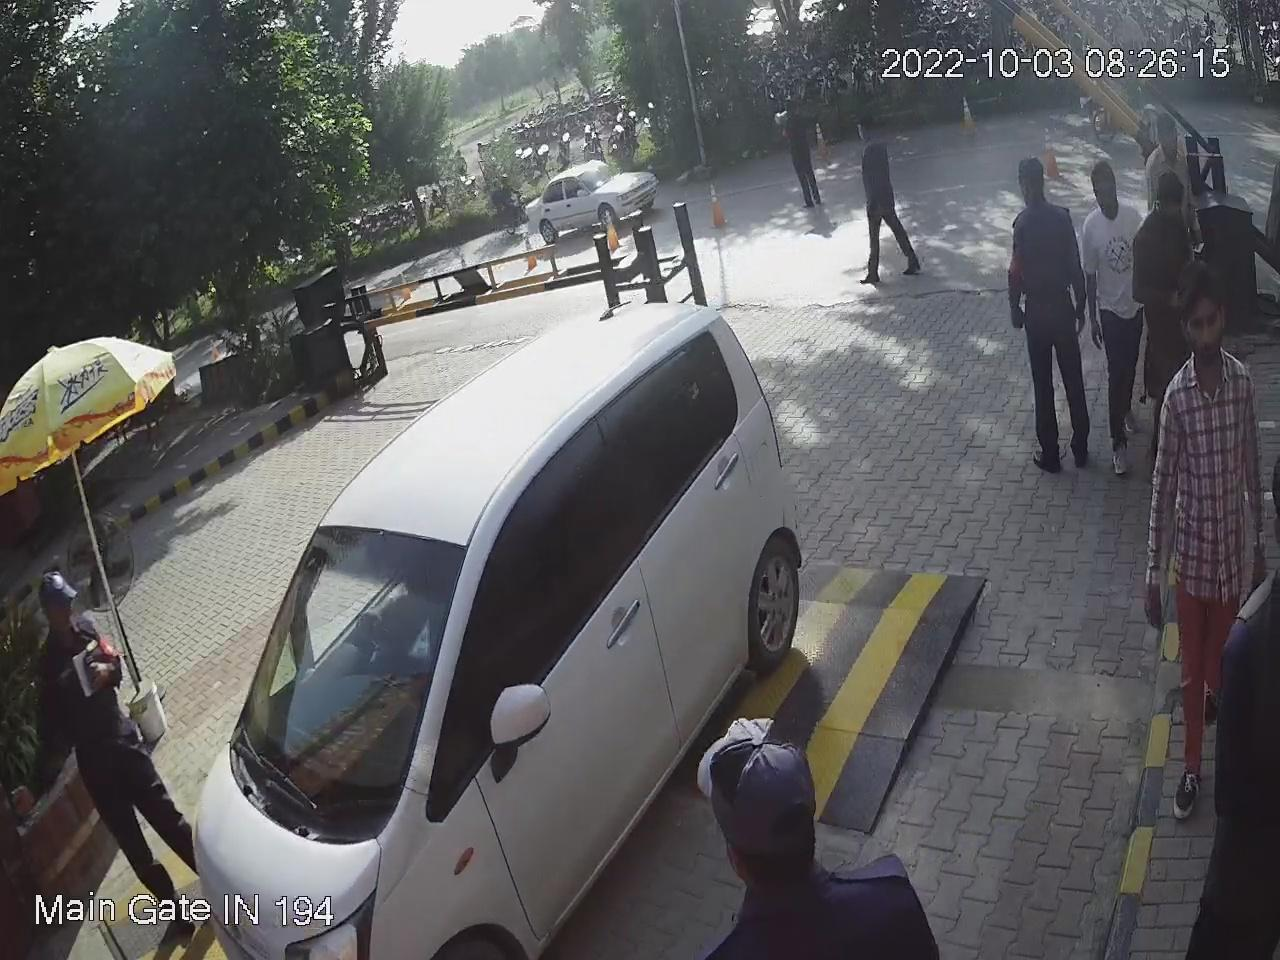windshield: (233, 520, 466, 820)
